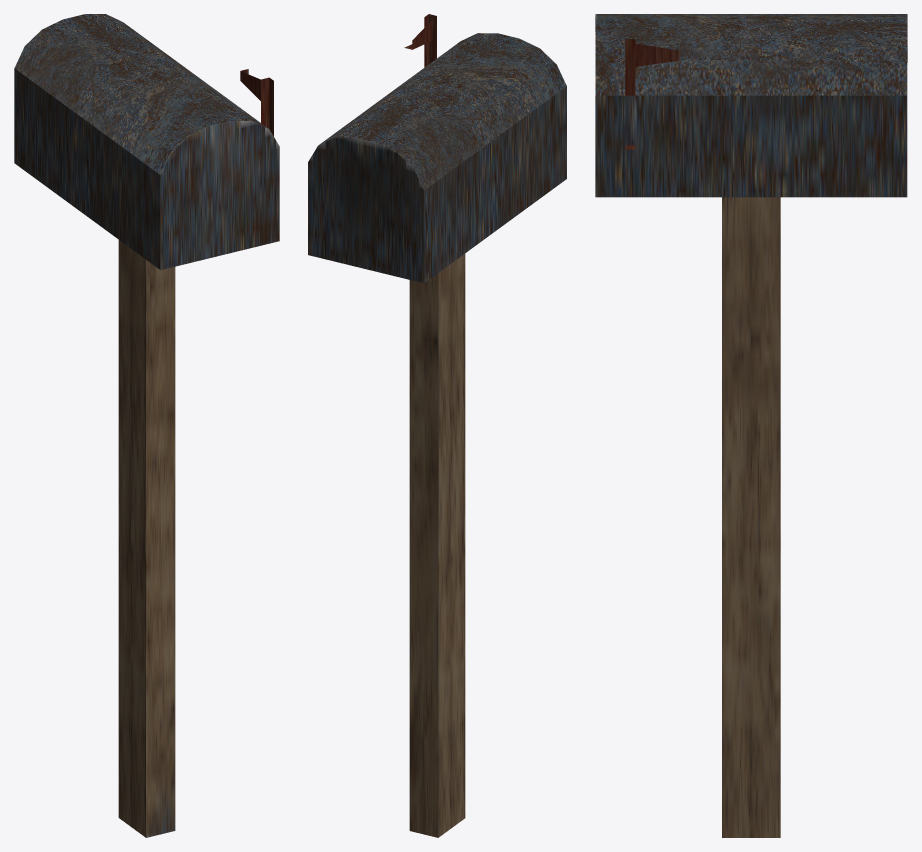
The model's file is mailbox.obj.
3 views of the same model, side by side, from view 1: azimuth 30°, elevation 25°; view 2: azimuth 150°, elevation 25°; view 3: azimuth 270°, elevation 25° (orthographic). The views are drawn at different scales.
Parts seen in each view (by area): view 1: Cubo; view 2: Cubo; view 3: Cubo.
Part boxes in pixels (left/top/right/bottom): Cubo: left=14, top=14, right=279, bottom=837; Cubo: left=308, top=14, right=566, bottom=837; Cubo: left=595, top=14, right=907, bottom=837.
Bounding box in the file's own units: 0.8195 × 4.73 × 1.63.
1 material, 1 textured.
